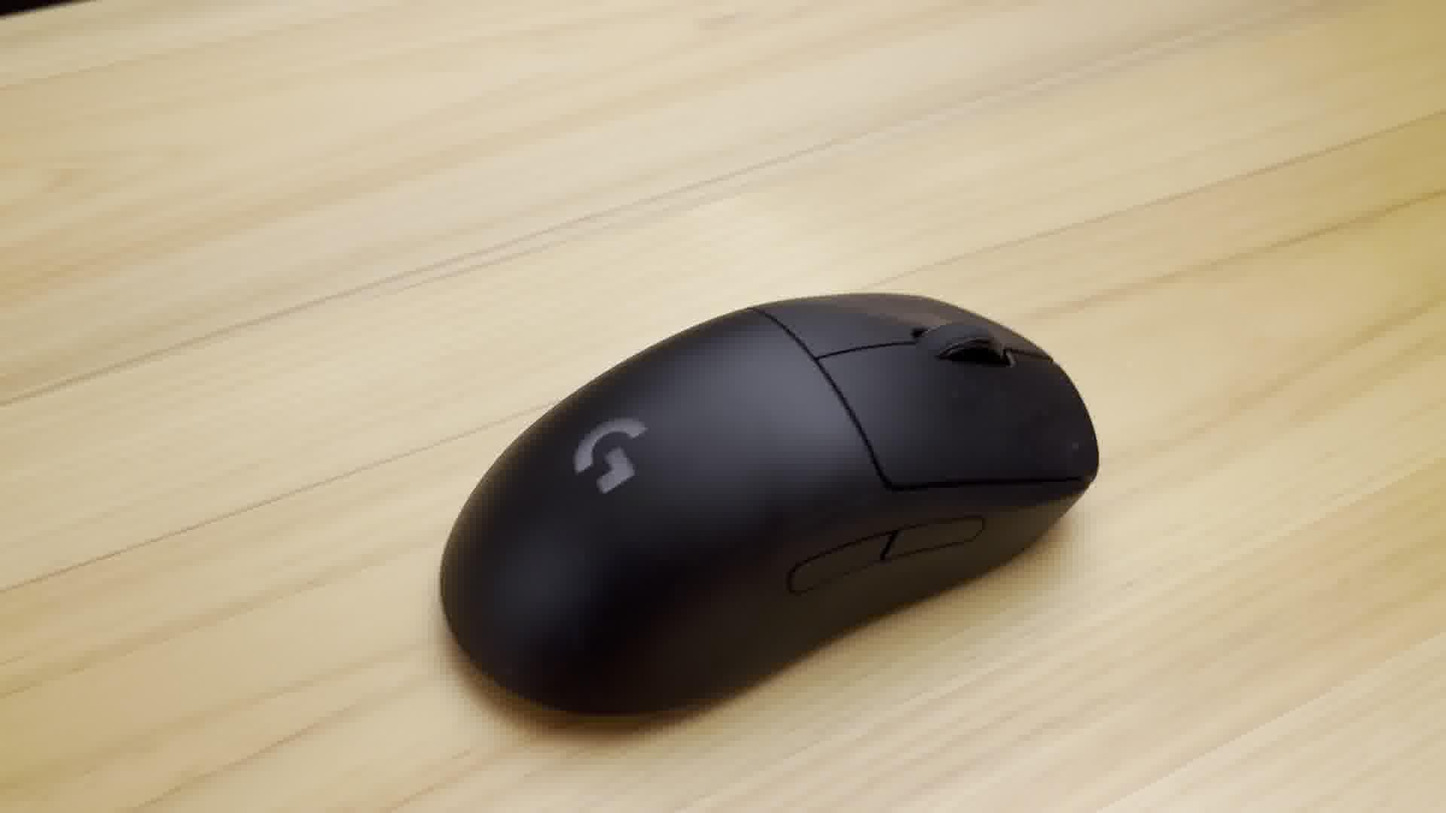mouse: (434, 283, 1107, 729)
